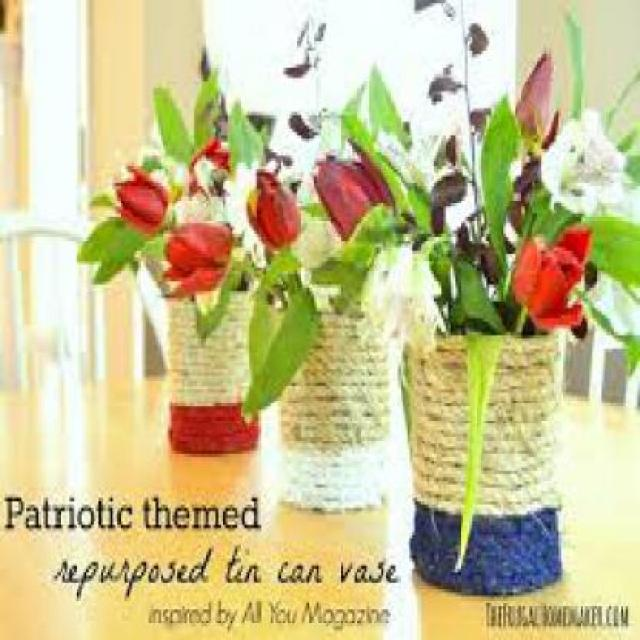BIODEGRADABLE: (241, 255, 314, 413), (238, 271, 316, 417), (536, 98, 633, 207), (343, 81, 412, 224), (506, 230, 586, 345), (304, 138, 388, 237), (568, 261, 638, 373), (477, 88, 511, 298), (77, 193, 154, 281), (574, 207, 638, 291), (156, 220, 235, 288), (240, 166, 305, 248), (307, 228, 376, 304), (179, 139, 247, 213), (522, 41, 560, 159), (366, 44, 403, 156), (113, 159, 170, 224), (149, 81, 196, 152), (187, 61, 225, 145), (221, 96, 264, 170), (189, 264, 242, 322), (124, 146, 176, 200), (426, 173, 477, 224), (349, 193, 403, 241), (427, 132, 475, 176), (290, 17, 338, 54), (459, 99, 503, 132), (462, 10, 492, 55), (426, 64, 459, 98), (290, 104, 324, 136), (241, 102, 274, 129), (278, 58, 314, 74), (138, 240, 168, 258), (268, 149, 294, 169), (412, 0, 446, 14)
METAL: (408, 332, 558, 596), (268, 298, 386, 512), (166, 288, 256, 457)
